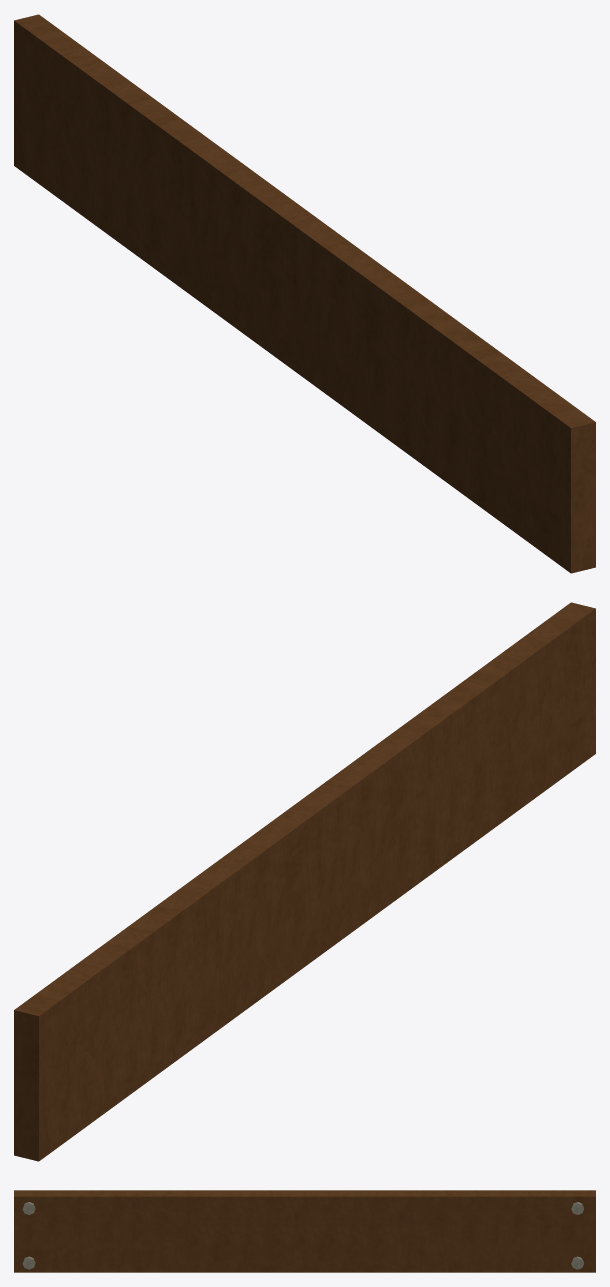
File: wood_broken_panels.fbx
3 renders of one model, top to bottom at view 1: azimuth 30°, elevation 25°; view 2: azimuth 150°, elevation 25°; view 3: azimuth 270°, elevation 25°, orthographic. The views are drawn at different scales.
Parts seen in each view (by area): view 1: plank_segment1, plank_segment2, plank_ends; view 2: plank_segment1, plank_segment2, plank_ends; view 3: plank_segment1, plank_segment2, plank_ends, pCylinder8.
Part boxes in pixels (<box>): plank_segment1: <box>267,216,553,526</box>; plank_segment2: <box>53,55,313,361</box>; plank_ends: <box>14,14,595,573</box>; plank_segment1: <box>289,633,547,965</box>; plank_segment2: <box>70,808,324,1131</box>; plank_ends: <box>14,602,595,1161</box>; plank_segment1: <box>58,1190,331,1272</box>; plank_segment2: <box>290,1190,554,1272</box>; plank_ends: <box>14,1190,595,1272</box>; pCylinder8: <box>22,1202,583,1269</box>.
Bounding box in the file's own units: 4.8 × 20.53 × 143.
1 material, 1 textured.
